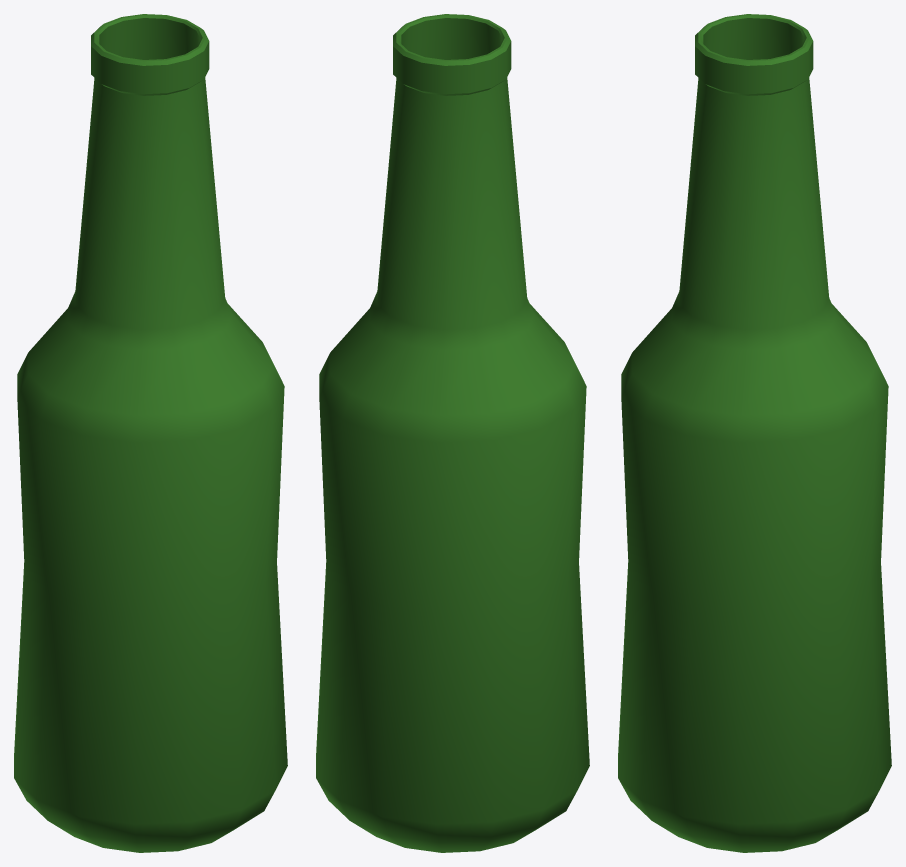
File: beer-bottle.gltf
3 views of the same model, side by side, from view 1: azimuth 30°, elevation 25°; view 2: azimuth 150°, elevation 25°; view 3: azimuth 270°, elevation 25° (orthographic).
Parts seen in each view (by area): view 1: Cylinder; view 2: Cylinder; view 3: Cylinder.
Part boxes in pixels (left/top/right/bottom): Cylinder: left=14, top=14, right=287, bottom=852; Cylinder: left=316, top=14, right=589, bottom=852; Cylinder: left=618, top=14, right=891, bottom=852.
Bounding box in the file's own units: 0.3914 × 1.24 × 0.3893.
